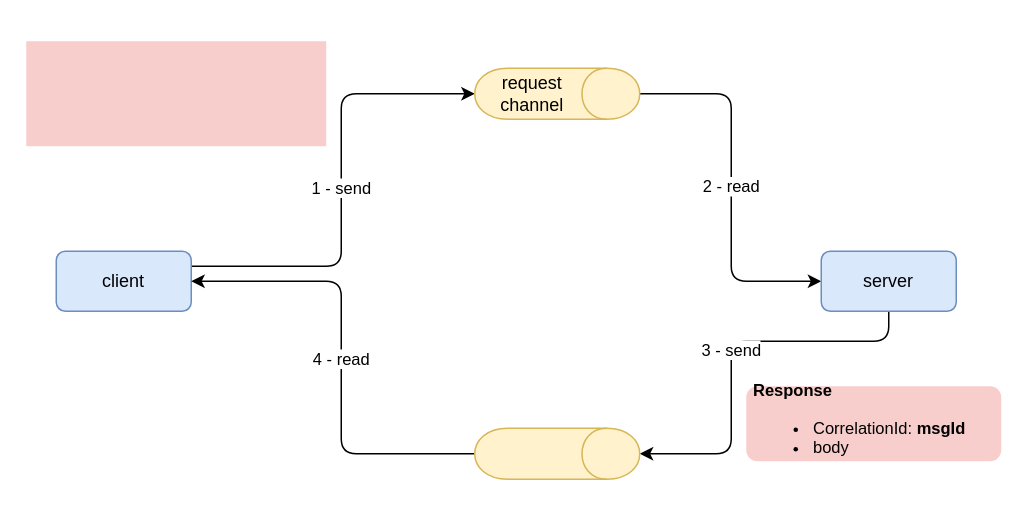
Some shapes in this 1026 by 506 pixel diagram are drawn without their labels. Here are the shapes that lost their labels. From the top down, the box of each, then its label:
(26, 40, 326, 146): Request MessageId: msgId ReplyTo: response channel body
(473, 427, 640, 479): response channel
